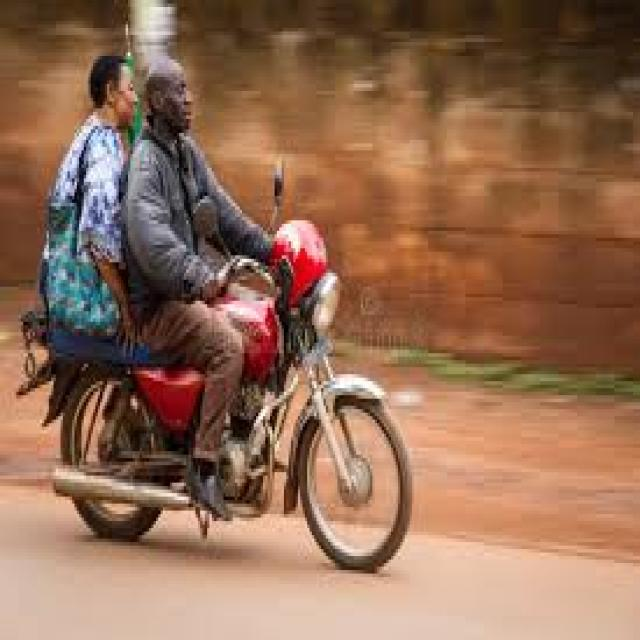bodaboda: (1, 138, 472, 598)
